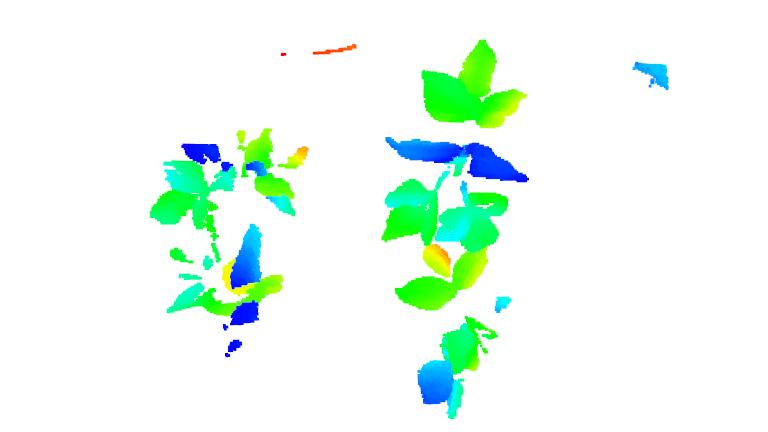mungbean: (379, 38, 533, 248), (391, 241, 507, 421), (148, 122, 312, 237), (168, 227, 287, 362)
